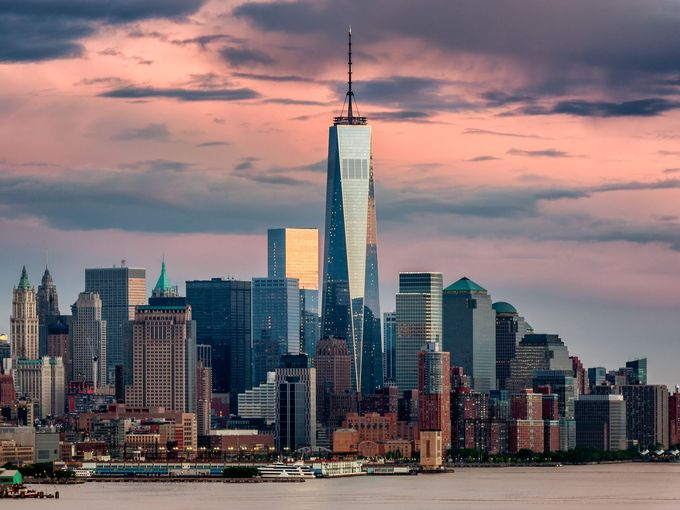wtc: (320, 25, 381, 389)
